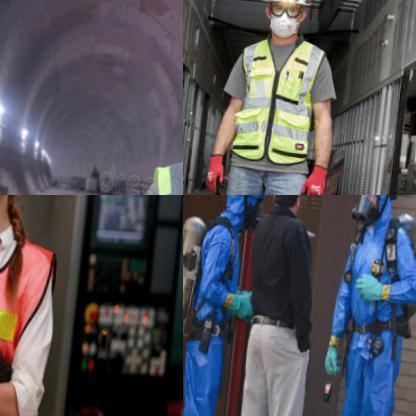vest: (0, 203, 63, 415), (231, 29, 328, 164), (330, 220, 415, 341), (187, 199, 255, 350)
